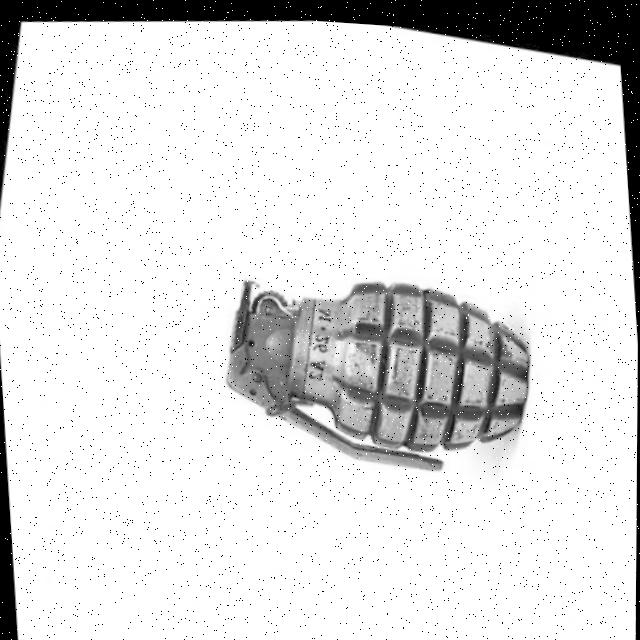grenade: (197, 220, 548, 507)
